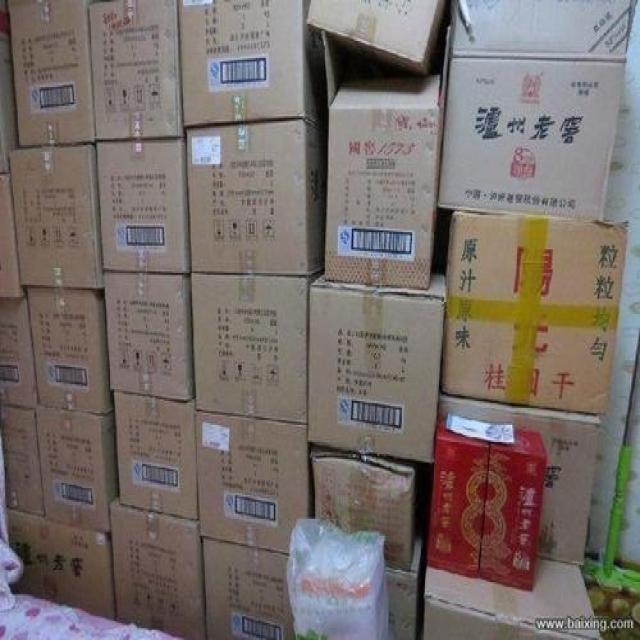box: (444, 5, 634, 214), (442, 202, 620, 420), (322, 35, 437, 282), (304, 280, 444, 474), (434, 413, 554, 599), (189, 268, 315, 427), (188, 123, 320, 274), (195, 403, 308, 554), (186, 0, 304, 134), (82, 0, 188, 145), (98, 123, 184, 281), (426, 561, 598, 640), (108, 496, 202, 640), (2, 517, 118, 629), (6, 0, 95, 143), (15, 144, 99, 292), (312, 456, 410, 573), (23, 289, 112, 411), (304, 0, 452, 72), (197, 534, 292, 640), (38, 402, 114, 534), (108, 274, 190, 392), (114, 395, 194, 512)
